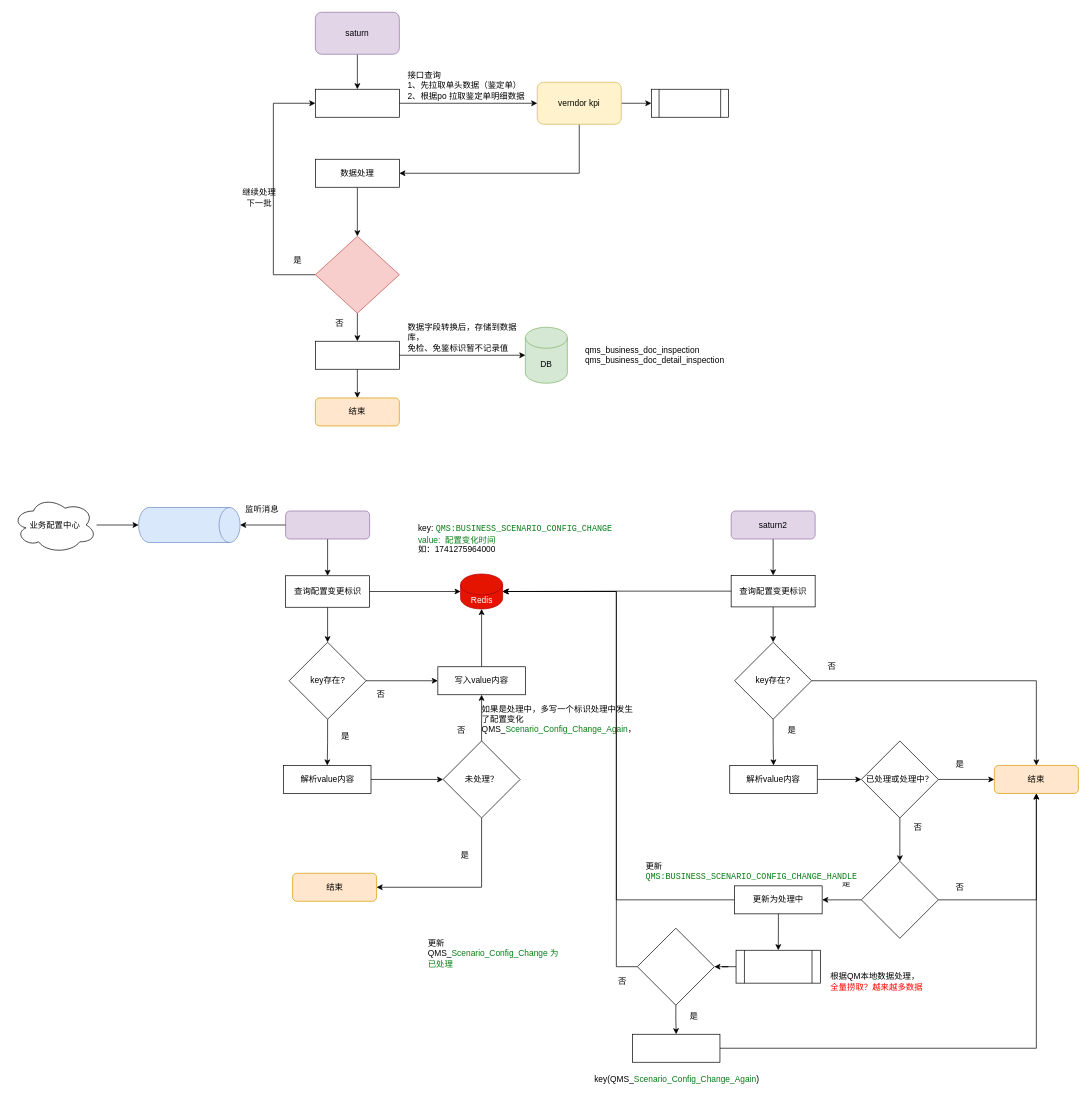
This 1091x1103 diagram has some shape labels left out. Here are the shapes that lost their labels. From the top down, the centre of each, then its label:
At (357,103): "调用接口获取数据".
At (689,103): "获取数据".
At (357,274): "业务单据质检信息 已存在？".
At (357,355): "数据组装保存".
At (189,524): "VMS".
At (327,524): "saturn1".
At (899,899): "配置变化 超过10分钟？".
At (675,966): "处理中配置 再次变化？".
At (777,966): "处理数据".
At (676,1048): "删除处理中配置变化标识".
